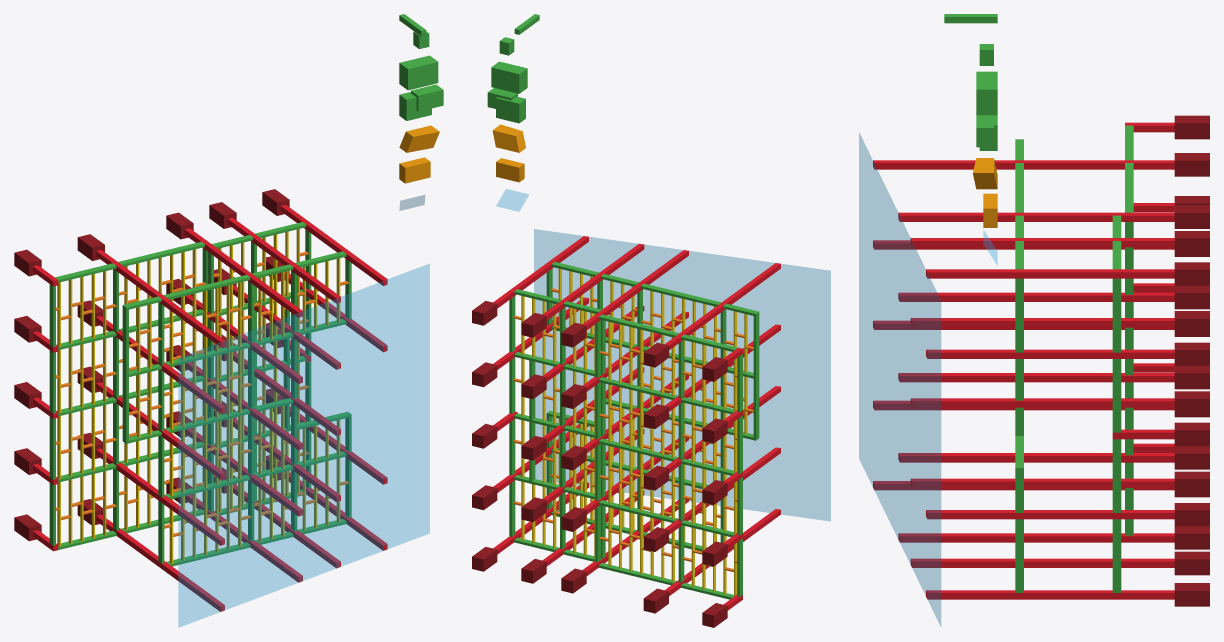
The model's file is tinker.obj.
The picture shows the model from 3 angles, left to right: view 1: azimuth 30°, elevation 25°; view 2: azimuth 150°, elevation 25°; view 3: azimuth 270°, elevation 25°; orthographic projection. The views are drawn at different scales.
Visible parts, largest first — view 1: obj_424, obj_1, obj_20, obj_15, obj_2, obj_420, obj_3, obj_421, obj_11, obj_6, obj_4, obj_13 (+12 smaller); view 2: obj_424, obj_1, obj_420, obj_2, obj_421, obj_3, obj_4, obj_20, obj_419, obj_15, obj_7, obj_13 (+14 smaller); view 3: obj_424, obj_1, obj_16, obj_21, obj_12, obj_7, obj_13, obj_2, obj_3, obj_4, obj_8, obj_17 (+42 smaller).
Part boxes in pixels (x1,y1,x2,y2): obj_424: (178, 263, 429, 627); obj_1: (96, 250, 224, 347); obj_20: (96, 514, 224, 611); obj_15: (96, 448, 224, 545); obj_2: (184, 228, 302, 317); obj_420: (399, 84, 443, 120); obj_3: (227, 217, 340, 303); obj_421: (399, 55, 438, 90); obj_11: (96, 382, 224, 479); obj_6: (96, 316, 224, 413); obj_4: (280, 204, 387, 285); obj_13: (233, 351, 340, 435); obj_424: (534, 229, 830, 521); obj_1: (665, 263, 780, 350); obj_420: (487, 88, 525, 123); obj_2: (582, 250, 688, 329); obj_421: (491, 61, 527, 93); obj_3: (542, 243, 644, 320); obj_4: (493, 236, 588, 308); obj_20: (665, 509, 780, 596); obj_419: (492, 124, 525, 152); obj_15: (665, 447, 780, 534); obj_7: (582, 311, 688, 391); obj_13: (542, 367, 644, 443); obj_424: (859, 132, 940, 626); obj_1: (873, 160, 1174, 169); obj_16: (898, 453, 1174, 462); obj_21: (898, 533, 1174, 542); obj_12: (898, 373, 1174, 382); obj_7: (898, 292, 1174, 301); obj_13: (910, 398, 1174, 407); obj_2: (898, 212, 1174, 221); obj_3: (910, 238, 1174, 247); obj_4: (926, 269, 1174, 278); obj_8: (910, 318, 1174, 327); obj_17: (910, 478, 1174, 487).
Bounding box in the file's own units: 132 × 192 × 99.11.
